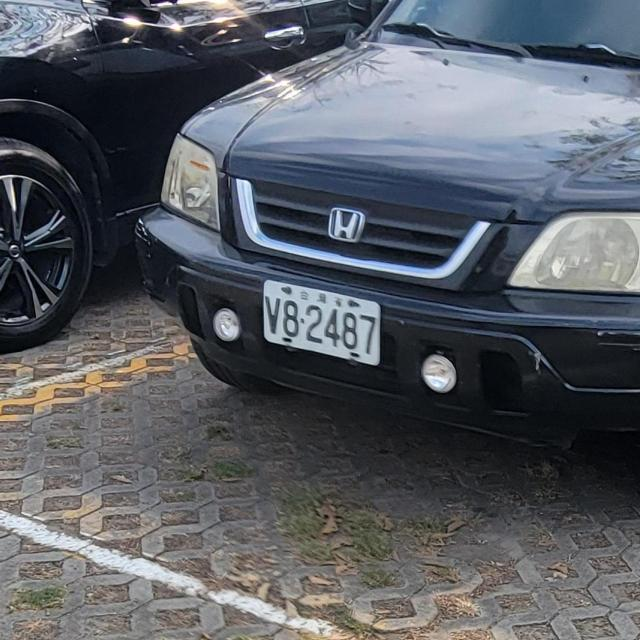W: (259, 275, 385, 368)
